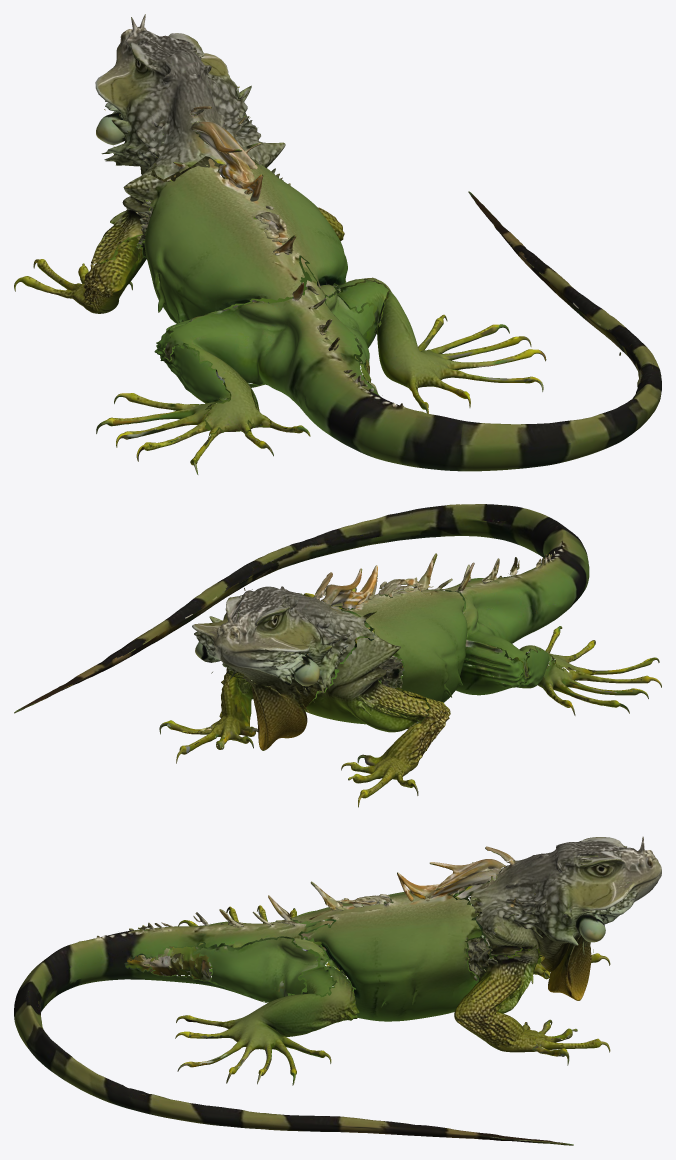
The model's file is iguana.glb.
The picture shows the model from 3 angles, top to bottom: view 1: azimuth 30°, elevation 25°; view 2: azimuth 150°, elevation 25°; view 3: azimuth 270°, elevation 25°; orthographic projection. The views are drawn at different scales.
Parts seen in each view (by area): view 1: tripo_part_2, tripo_part_11, tripo_part_22, tripo_part_6, tripo_part_17, tripo_part_5, tripo_part_8, tripo_part_12; view 2: tripo_part_2, tripo_part_11, tripo_part_22, tripo_part_17, tripo_part_8, tripo_part_5, tripo_part_24, tripo_part_16, tripo_part_12, tripo_part_13, tripo_part_9; view 3: tripo_part_11, tripo_part_2, tripo_part_22, tripo_part_6, tripo_part_16, tripo_part_12, tripo_part_1, tripo_part_24, tripo_part_23.
Boxes of the visible parts, x1,y1,x2,y2 form: tripo_part_2: [164, 191, 661, 471]; tripo_part_11: [91, 158, 374, 393]; tripo_part_22: [95, 14, 285, 181]; tripo_part_6: [333, 277, 546, 413]; tripo_part_17: [14, 235, 146, 313]; tripo_part_5: [96, 383, 310, 474]; tripo_part_8: [154, 309, 251, 403]; tripo_part_12: [190, 121, 263, 201]; tripo_part_2: [14, 504, 595, 713]; tripo_part_11: [252, 586, 498, 732]; tripo_part_22: [192, 586, 376, 712]; tripo_part_17: [341, 687, 450, 807]; tripo_part_8: [456, 639, 552, 695]; tripo_part_5: [514, 626, 661, 715]; tripo_part_24: [243, 675, 307, 750]; tripo_part_16: [167, 667, 258, 749]; tripo_part_12: [321, 565, 377, 608]; tripo_part_13: [379, 656, 404, 688]; tripo_part_9: [379, 577, 419, 597]; tripo_part_11: [194, 875, 542, 1021]; tripo_part_2: [14, 895, 573, 1145]; tripo_part_22: [454, 836, 661, 971]; tripo_part_6: [175, 967, 359, 1085]; tripo_part_16: [454, 938, 572, 1055]; tripo_part_12: [397, 859, 505, 901]; tripo_part_1: [125, 946, 211, 980]; tripo_part_24: [548, 934, 591, 1000]; tripo_part_23: [529, 1035, 610, 1052].
Size of the model in its own units: 1.71 by 0.6692 by 2.1.
25 materials, 25 textured.
